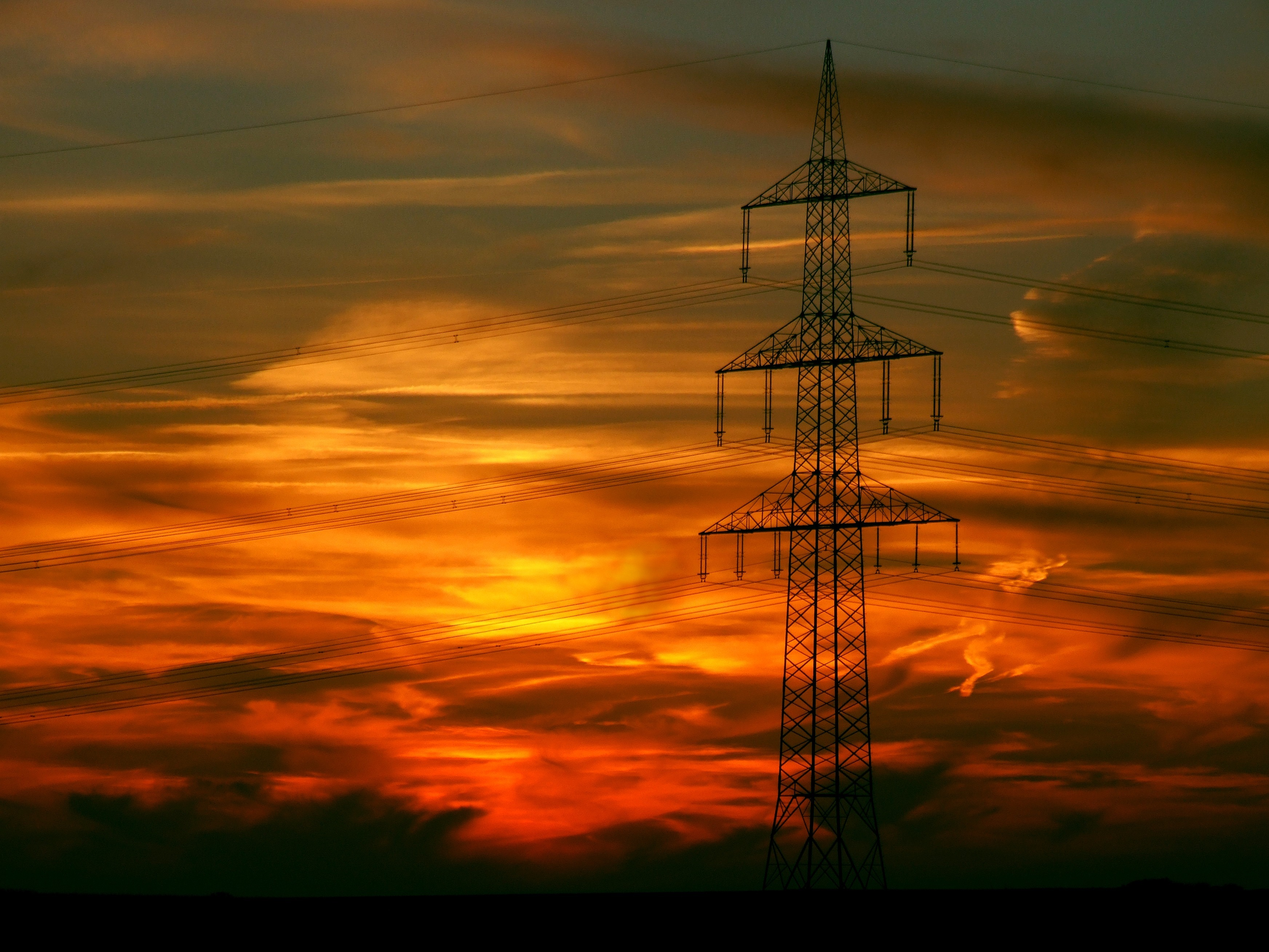insulator: (757, 364, 778, 433), (876, 356, 896, 423), (931, 350, 946, 430), (902, 188, 918, 261), (738, 203, 753, 276), (714, 368, 727, 441), (698, 535, 709, 579), (772, 531, 783, 574), (873, 526, 883, 571), (735, 533, 745, 578), (953, 521, 962, 566), (913, 522, 920, 569)
